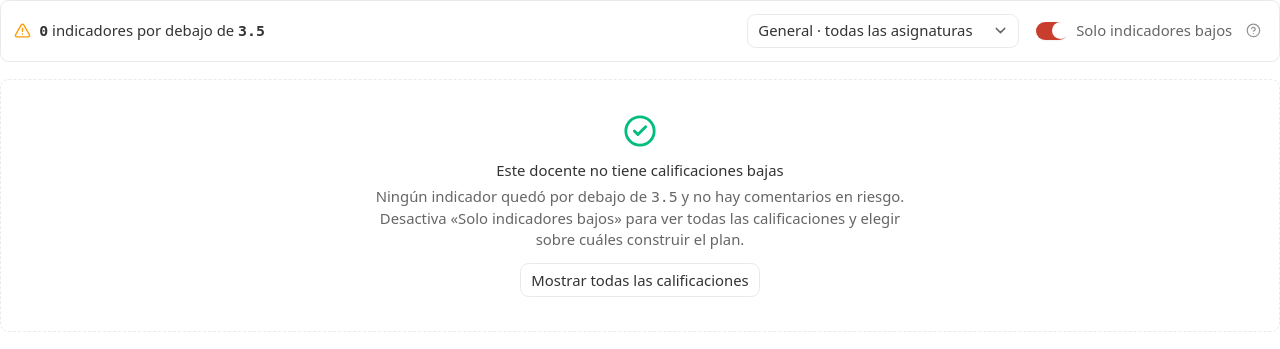
Test case: IndicatorPicker · lo que el promedio general esconde › marca en el selector la asignatura que tiene hallazgos
Click the dropdown labelled "asignatura": coordinates (883, 31) [747, 14, 1019, 48]
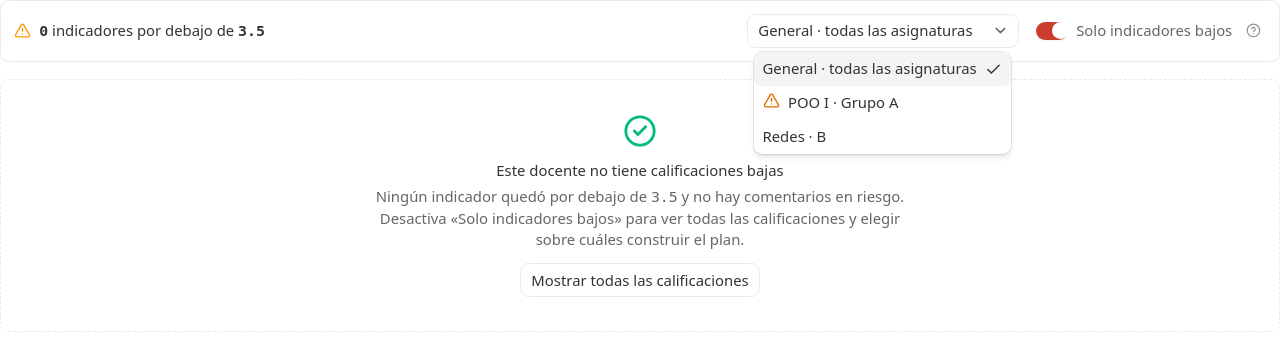
Now the option "Redes · B" is shown, box [762, 126, 826, 146]
